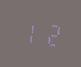one: (19, 18, 39, 46)
two: (40, 20, 60, 48)
